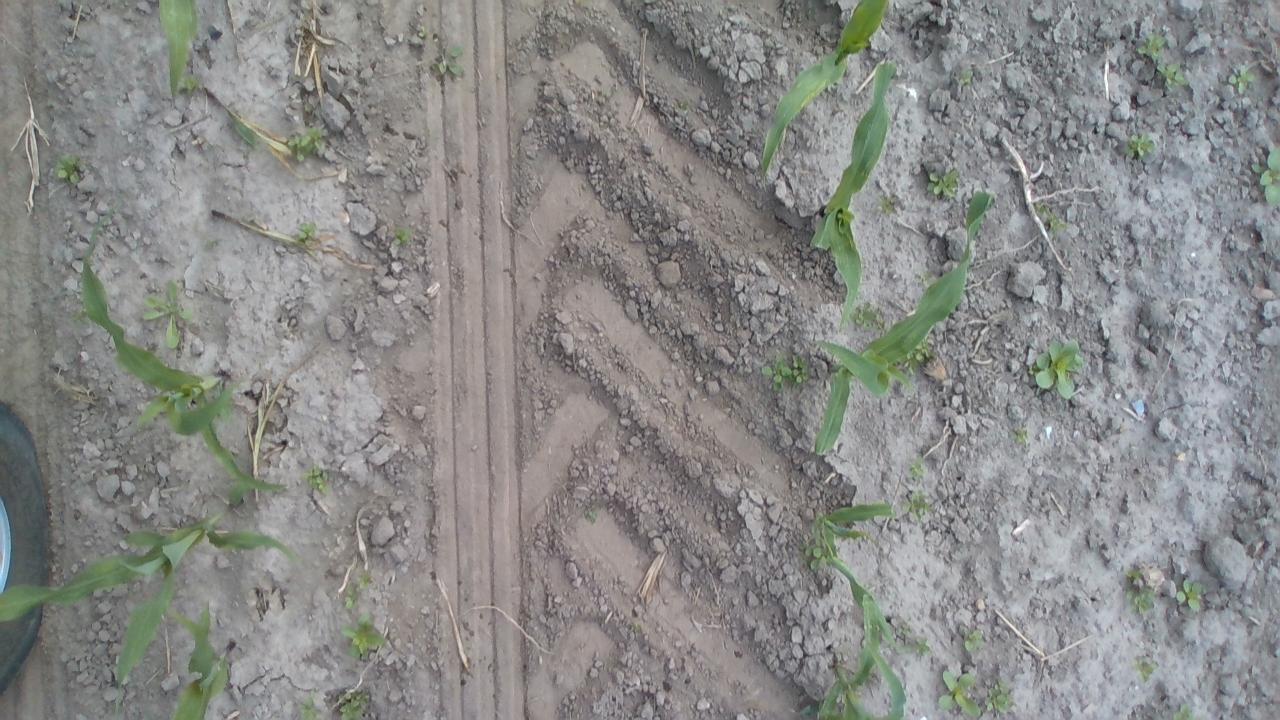Maize: (1, 504, 300, 720), (79, 200, 288, 498), (809, 188, 996, 472), (806, 53, 900, 337), (749, 0, 892, 186), (794, 591, 906, 720), (812, 501, 902, 652), (163, 599, 244, 720), (201, 78, 292, 160), (208, 207, 304, 252), (160, 0, 198, 102)
Weeds: (138, 278, 198, 352), (1028, 336, 1082, 398), (338, 609, 388, 658), (938, 664, 980, 718), (1250, 140, 1280, 206), (287, 128, 328, 162), (431, 40, 466, 78), (761, 354, 792, 394), (799, 532, 830, 572), (1136, 28, 1171, 63), (1175, 573, 1205, 612), (336, 687, 372, 719), (54, 149, 82, 188), (1152, 58, 1186, 90), (854, 302, 890, 332), (1126, 582, 1156, 617), (985, 676, 1012, 714), (925, 170, 962, 197), (1123, 130, 1155, 161), (786, 351, 812, 389), (901, 489, 932, 520), (1228, 63, 1256, 96), (960, 626, 989, 654), (296, 690, 322, 718), (306, 464, 330, 494), (1138, 658, 1160, 690), (180, 72, 203, 100), (1044, 212, 1070, 236), (1168, 701, 1196, 720), (877, 192, 897, 216), (902, 354, 924, 375), (342, 584, 359, 611), (905, 453, 924, 476), (894, 622, 914, 640), (356, 570, 376, 588), (298, 220, 318, 238), (394, 225, 411, 245), (916, 340, 932, 361), (1126, 562, 1144, 580), (913, 636, 929, 656), (957, 66, 974, 84), (1035, 198, 1052, 216), (676, 99, 692, 117), (920, 268, 936, 284), (1011, 428, 1028, 443), (418, 25, 429, 39), (304, 103, 314, 114)
